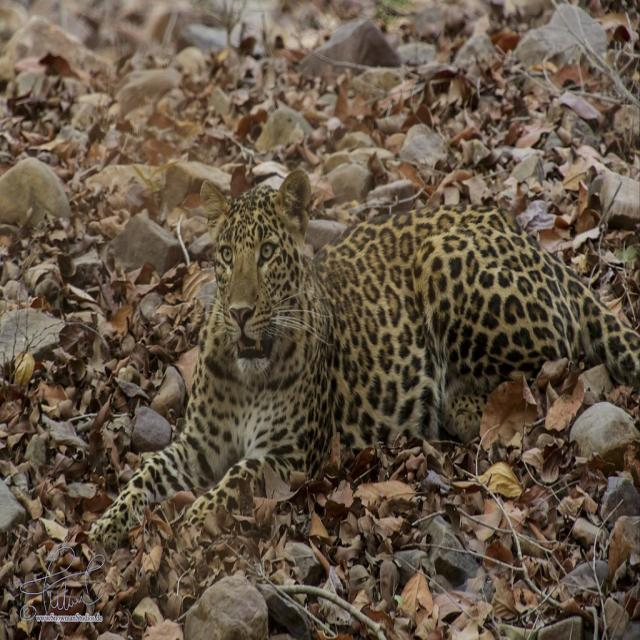Leopard: (92, 165, 640, 538)
